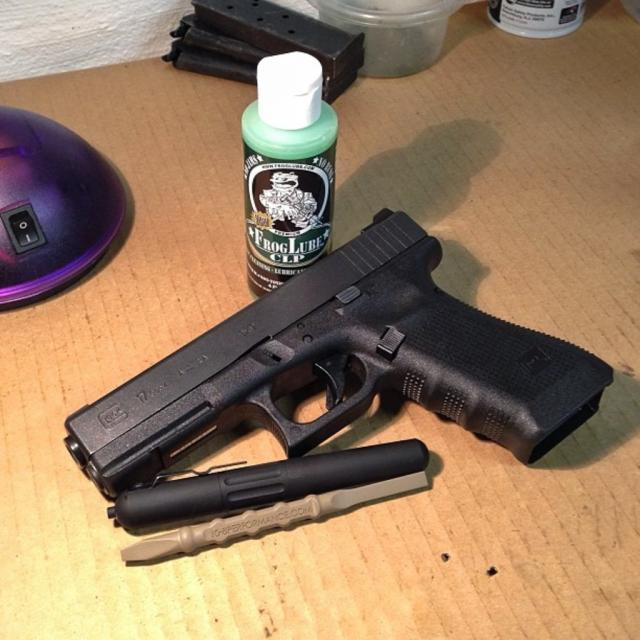Gun: (65, 209, 613, 504)
